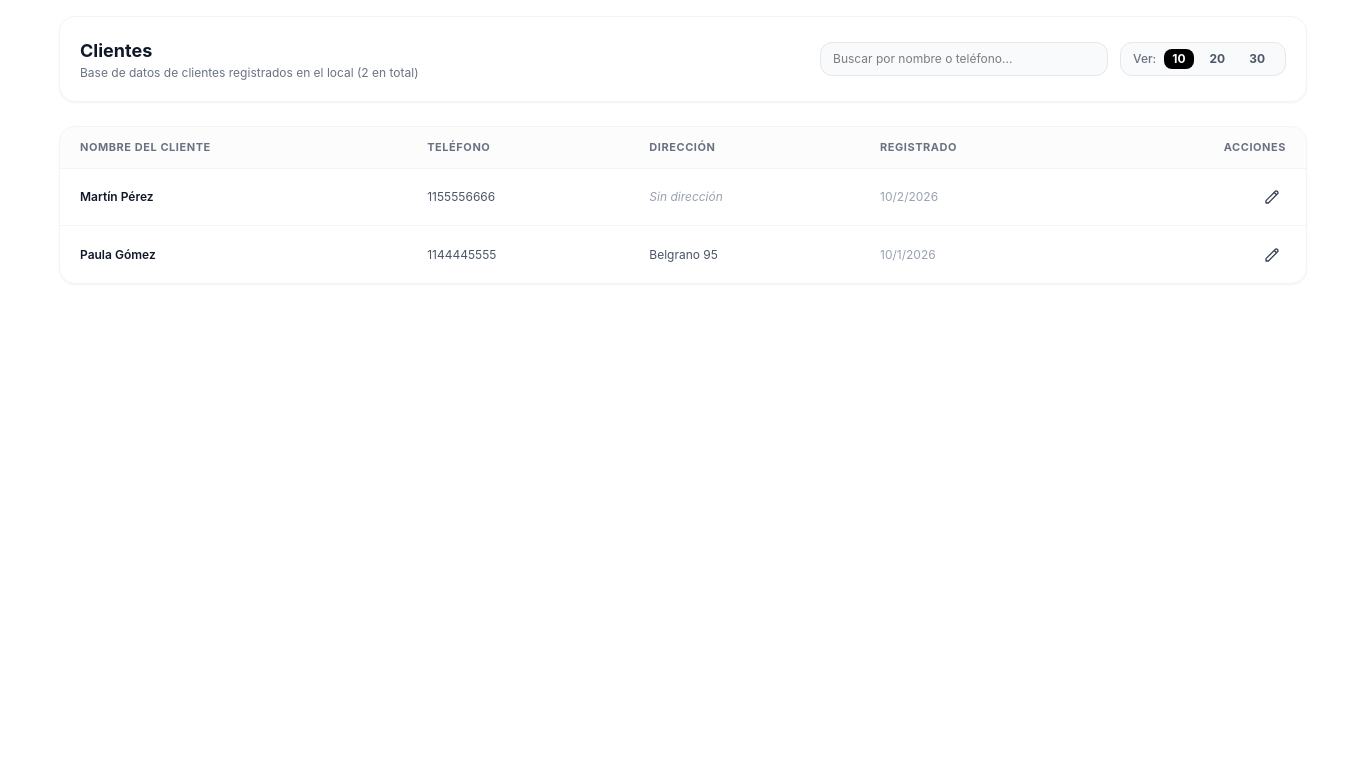
Test: ClientesView › el nombre y el teléfono son obligatorios al editar
The width and height of the screenshot is (1366, 768).
Expected: the text "Paula Gómez" is shown, [60,226,407,283]
Click the button titled "Editar cliente" in the row of "Paula Gómez": {"x": 1272, "y": 255} [1258,240,1286,269]
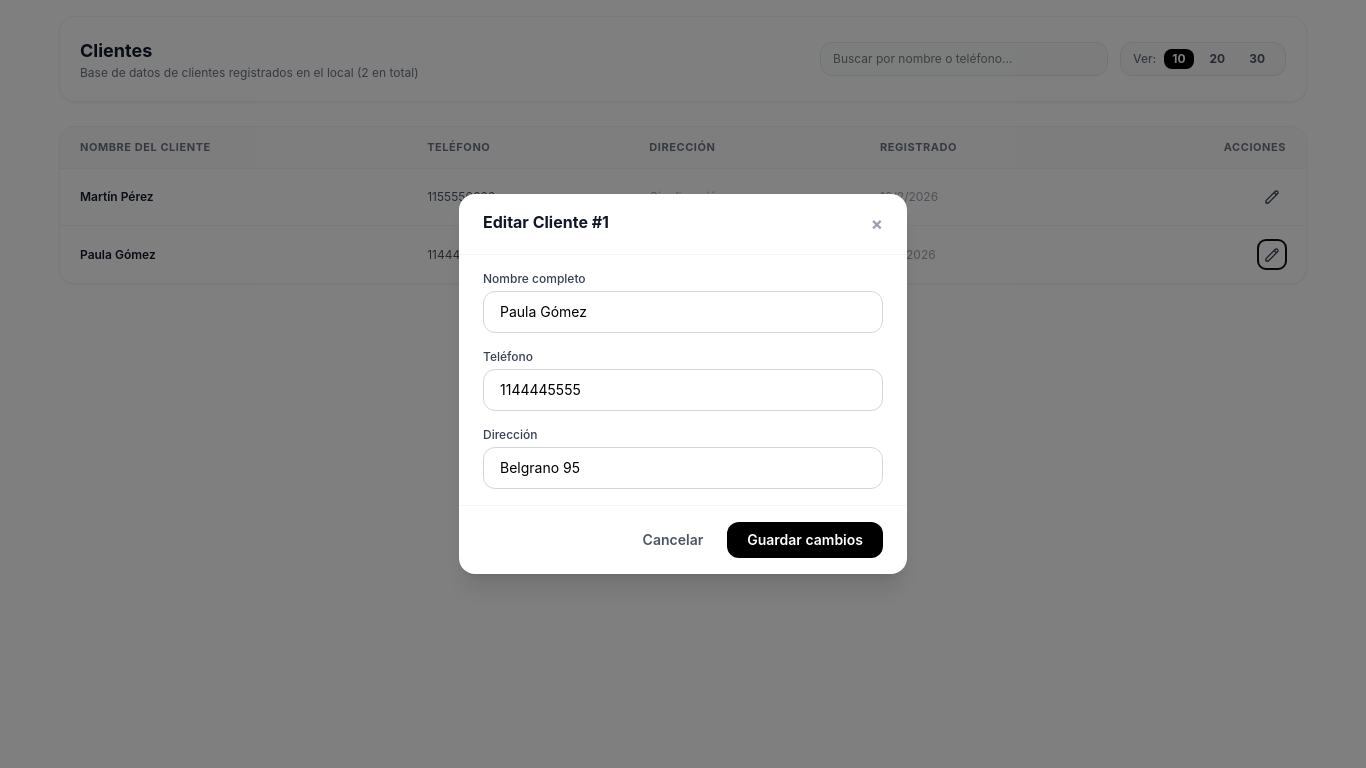
Clear the field showing "Paula Gómez": {"x": 683, "y": 312} [483,291,883,333]
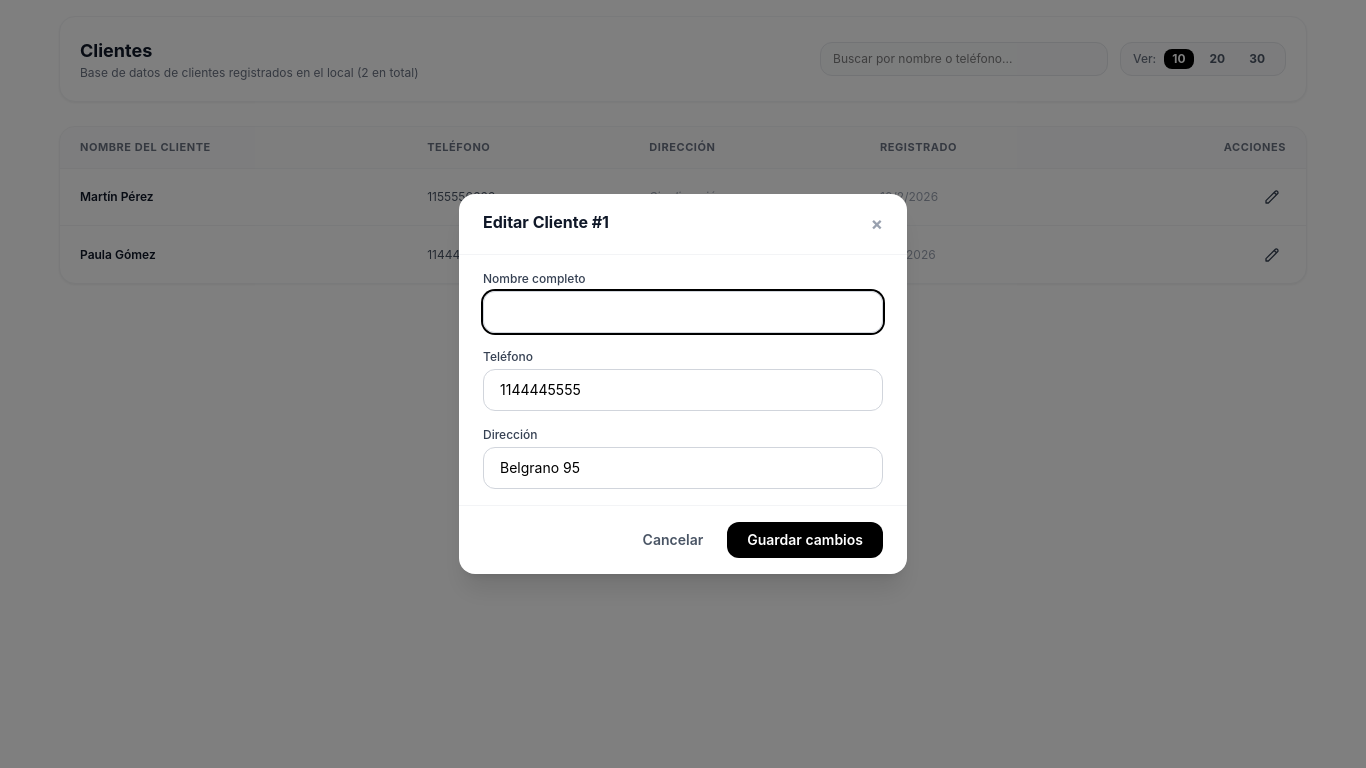
Click the button "Guardar cambios": {"x": 805, "y": 540} [727,522,883,558]
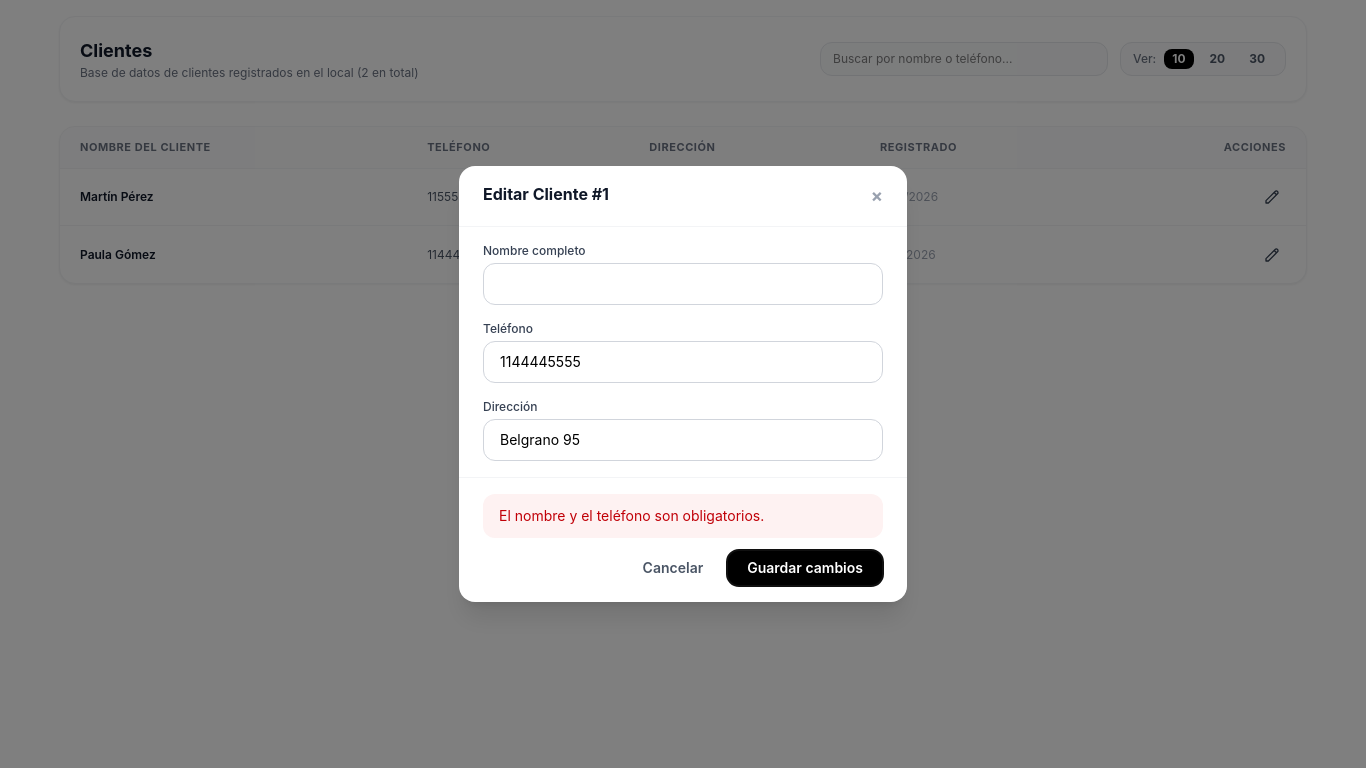
Expected: the text "El nombre y el teléfono son obligatorios." is shown, [483,494,883,538]
